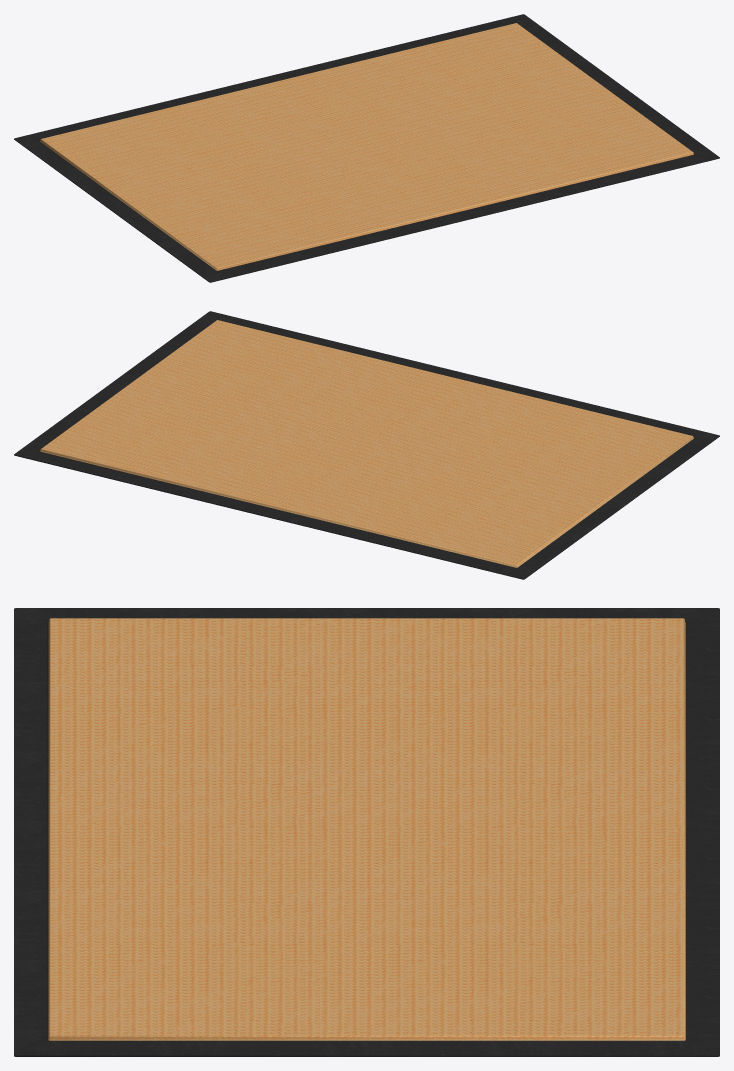
The model's file is carpet.glb.
3 views of the same model, one above another, from view 1: azimuth 30°, elevation 25°; view 2: azimuth 150°, elevation 25°; view 3: azimuth 270°, elevation 25° (orthographic). The views are drawn at different scales.
Visible parts, largest first — view 1: Doormate; view 2: Doormate; view 3: Doormate.
Boxes of the visible parts, x1,y1,x2,y2 form: Doormate: (14,14,719,282); Doormate: (14,311,719,579); Doormate: (14,608,719,1056).
Bounding box in the file's own units: 0.5994 × 0.00375 × 0.3994.
Materials: 1 (1 with a texture image).
